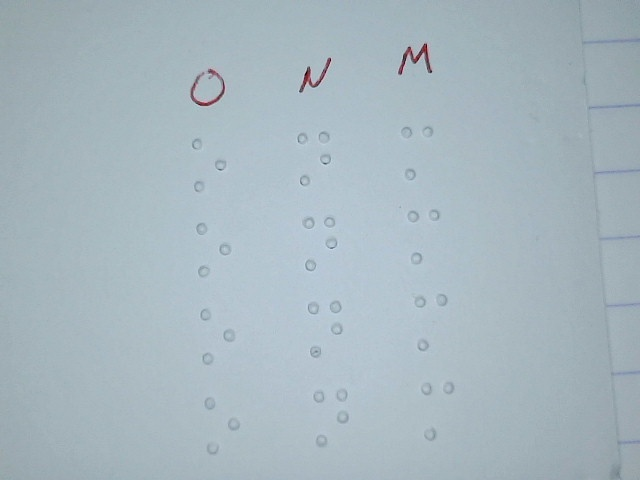M: (398, 122, 437, 183), (404, 206, 443, 267), (412, 292, 451, 353), (419, 380, 458, 441)
N: (295, 128, 334, 189), (300, 214, 339, 275), (305, 298, 344, 359), (312, 386, 351, 447)
O: (190, 135, 229, 196), (194, 218, 233, 279), (198, 306, 237, 367), (202, 394, 241, 455)
